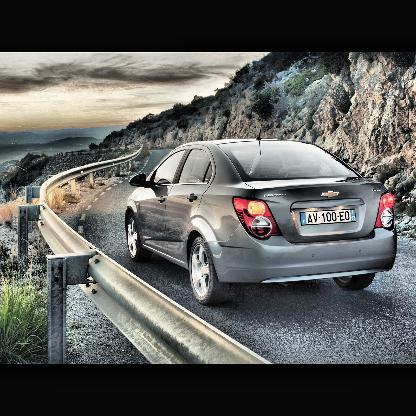Chevrolet Sonic Sedan 2012: (125, 127, 399, 307)
